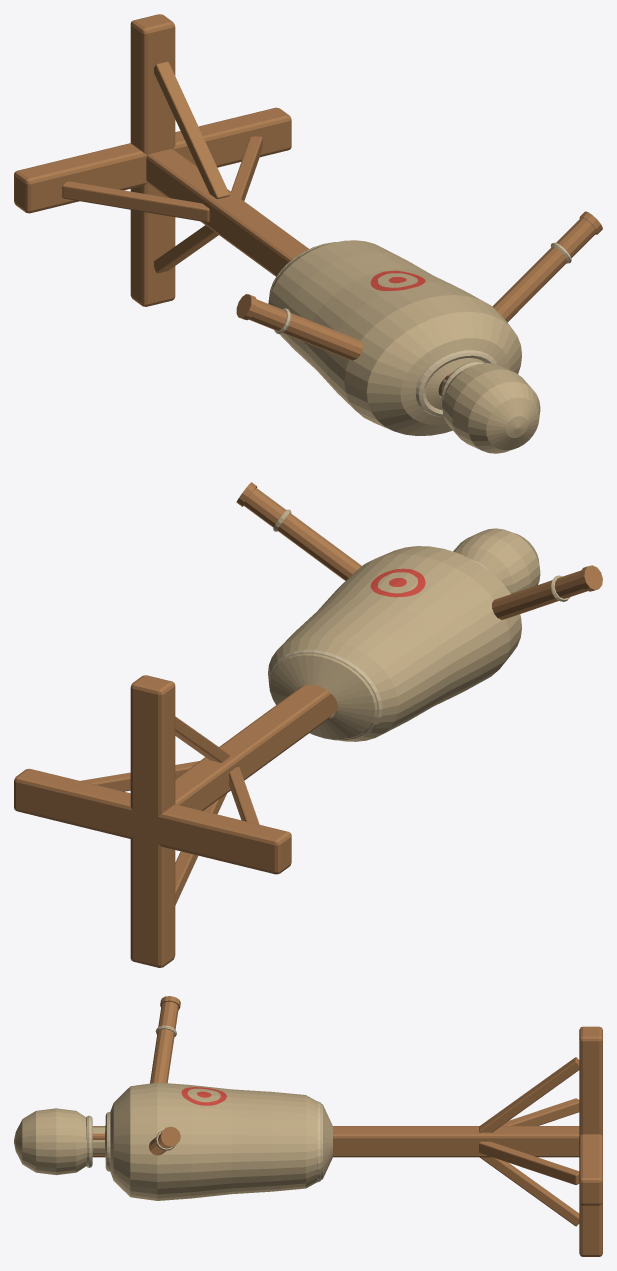
The model's file is dummy0.obj.
The picture shows the model from 3 angles, top to bottom: view 1: azimuth 30°, elevation 25°; view 2: azimuth 150°, elevation 25°; view 3: azimuth 270°, elevation 25°; orthographic projection. The views are drawn at different scales.
Bounding box in the file's own units: 0.9755 × 0.72 × 1.75.
